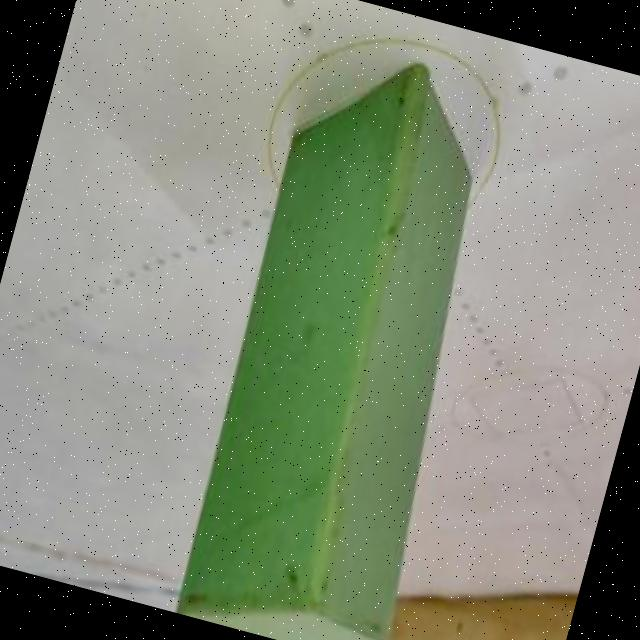greenbox: (171, 41, 504, 640)
